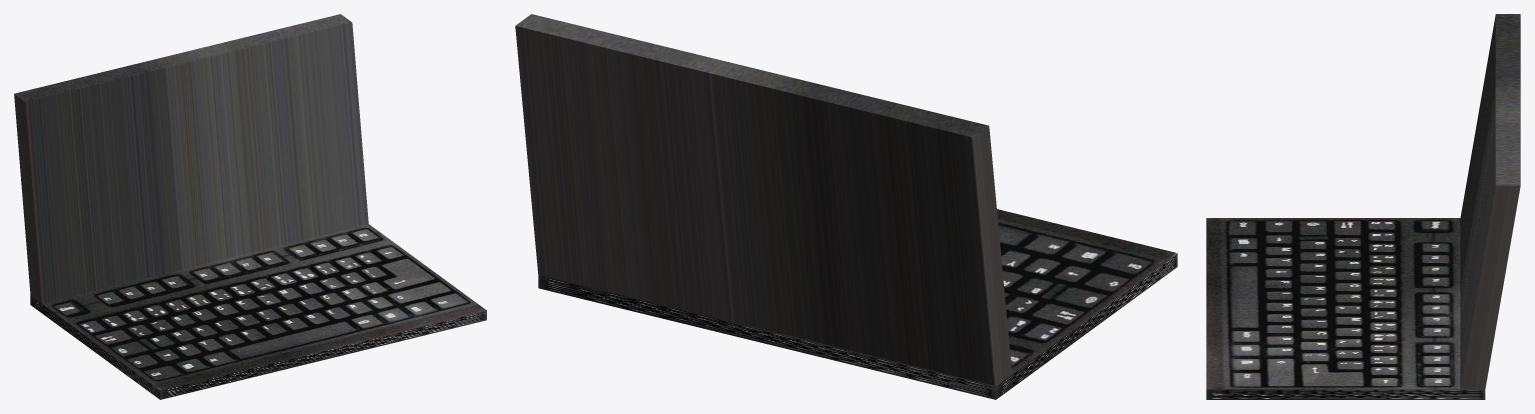
3 views of the same model, side by side, from view 1: azimuth 30°, elevation 25°; view 2: azimuth 150°, elevation 25°; view 3: azimuth 270°, elevation 25° (orthographic). The views are drawn at different scales.
Parts seen in each view (by area): view 1: Boîte001; view 2: Boîte001; view 3: Boîte001.
Part boxes in pixels (box(x1,y1,x2,y2)): Boîte001: box(14, 14, 486, 399); Boîte001: box(515, 14, 1177, 399); Boîte001: box(1206, 14, 1520, 399).
Size of the model in its own units: 8.44 by 4.92 by 6.54.
Materials: 2 (2 with a texture image).
